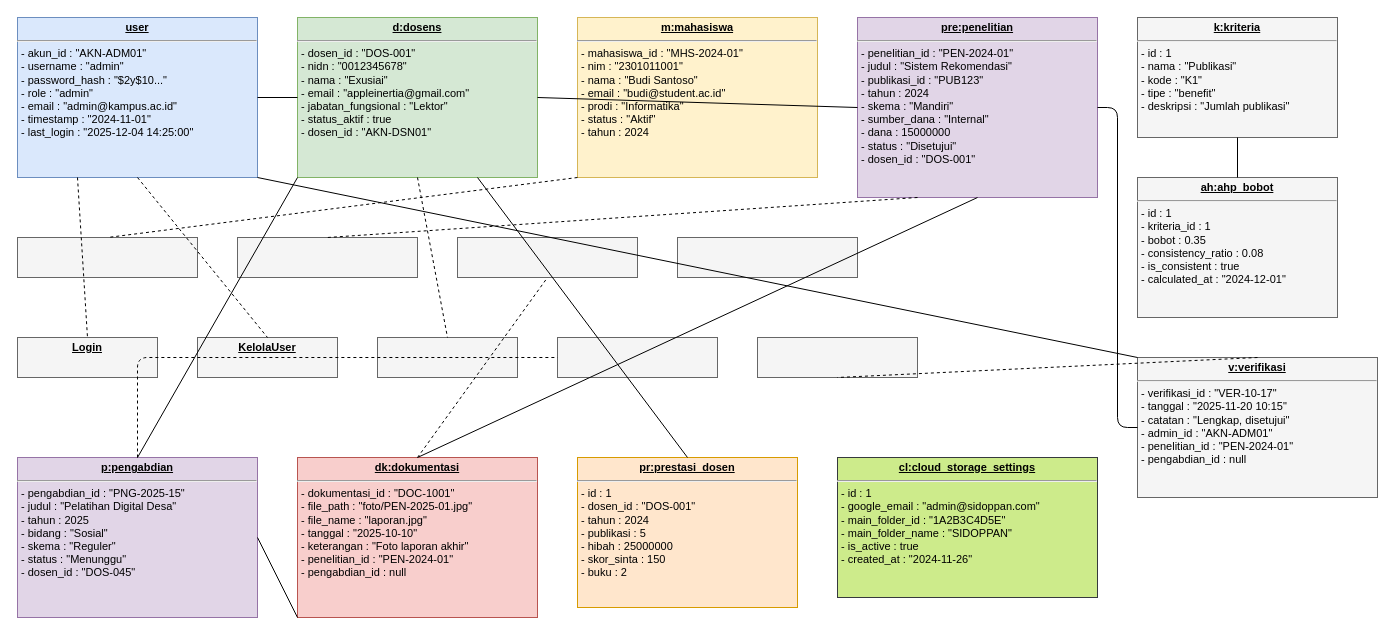
Image size: 1395x636. Some labels were removed from this diagram. Each missing label, with the centre of its shape:
"KelolaDokumentasi" goes at (547,257).
"KelolaDosen" goes at (447,357).
"KelolaLaporan" goes at (767,257).
"KelolaMahasiswa" goes at (107,257).
"KelolaPenelitian" goes at (327,257).
"KelolaPengabdian" goes at (637,357).
"KelolaVerifikasi" goes at (837,357).
